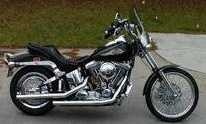motorcycle: (5, 11, 199, 122)
